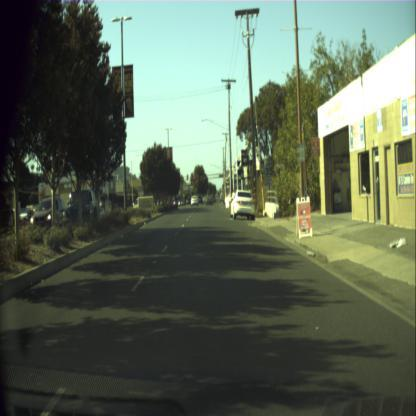Green: (204, 173, 206, 179)
Red: (193, 176, 195, 181)
